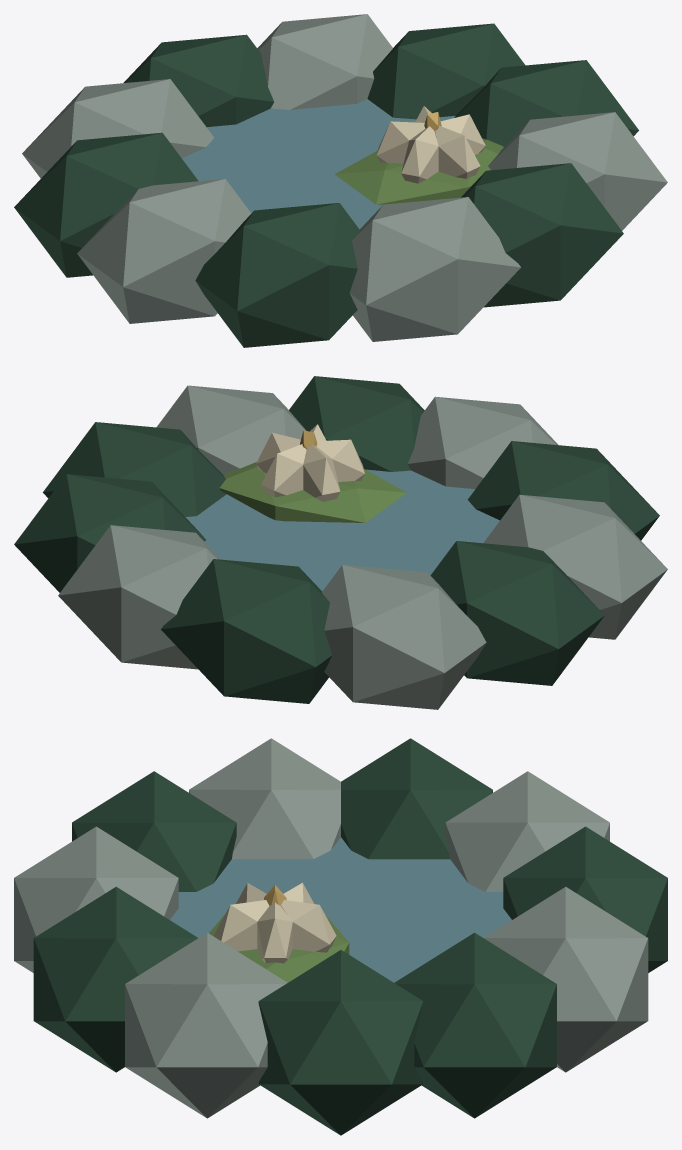
File: decoration-pond.glb
The picture shows the model from 3 angles, top to bottom: view 1: azimuth 30°, elevation 25°; view 2: azimuth 150°, elevation 25°; view 3: azimuth 270°, elevation 25°; orthographic projection. The views are drawn at different scales.
Parts seen in each view (by area): view 1: decoration-pond-visual; view 2: decoration-pond-visual; view 3: decoration-pond-visual.
Boxes of the visible parts, x1,y1,x2,y2 form: decoration-pond-visual: [14, 14, 667, 347]; decoration-pond-visual: [14, 376, 667, 709]; decoration-pond-visual: [14, 738, 667, 1135].
Bounding box in the file's own units: 0.8474 × 0.2 × 0.7939.
